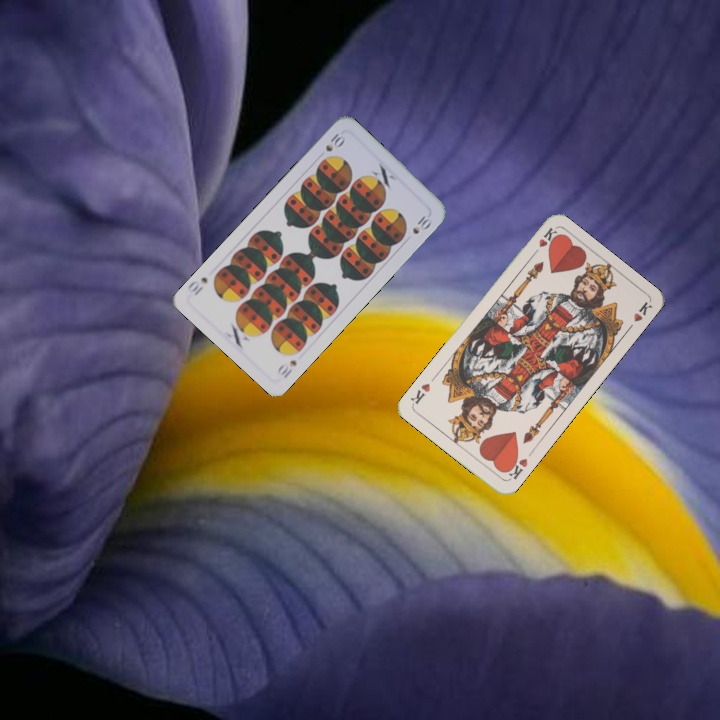HK: (527, 223, 560, 260), (501, 452, 530, 483)
S10: (321, 129, 348, 154), (273, 356, 299, 381)
